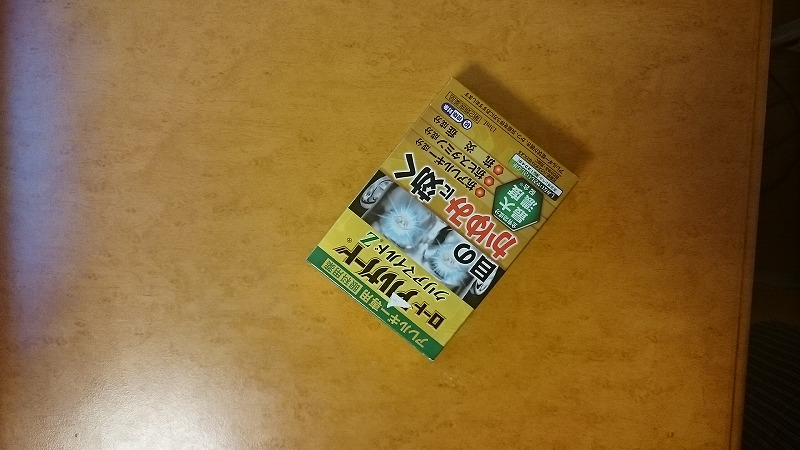C: (302, 73, 585, 373)
